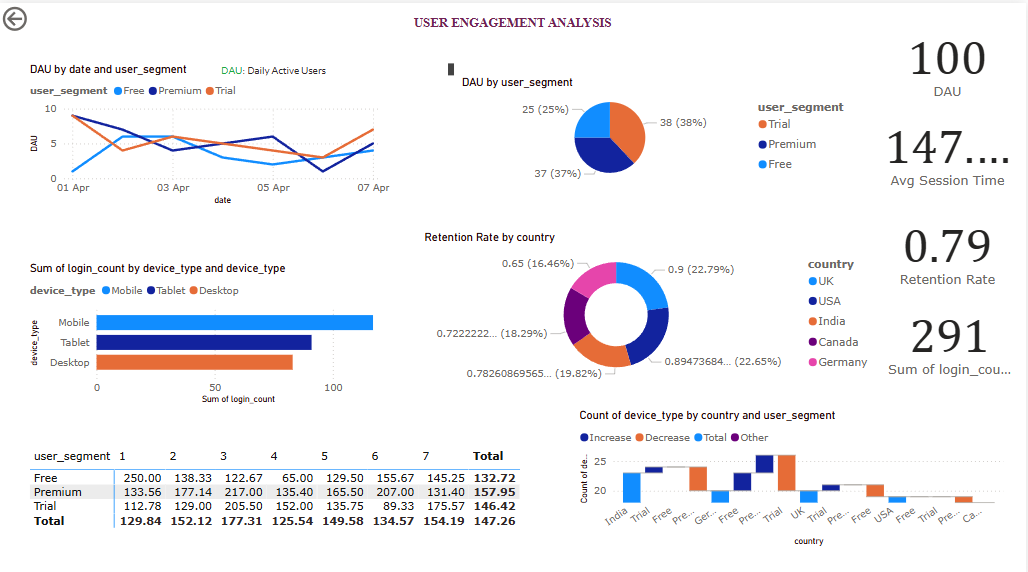

This screenshot's page, from the dashboard's own definition file:
{"tool":"powerbi","page":{"name":"Page 1","canvas":[1280,720],"ordinal":0},"visuals":[{"type":"lineChart","fields":{"Category":["users.date"],"Y":["users.DAU"],"Series":["users.user_segment"]},"box":[33.3,73.3,458.3,183.3],"z":2002},{"type":"pieChart","fields":{"Category":["users.user_segment"],"Y":["users.DAU"]},"box":[571.7,90,496.7,138.3],"z":2003},{"type":"textbox","box":[501.7,10,276.7,60],"z":2004},{"type":"card","fields":{"Values":["users.Avg Session Time"]},"box":[1068.3,125,198.3,116.7],"z":2005},{"type":"card","fields":{"Values":["users.DAU"]},"box":[1096.7,13.3,170,118.3],"z":2006},{"type":"card","fields":{"Values":["users.Retention Rate"]},"box":[1106.7,241.7,150,128.3],"z":2007},{"type":"barChart","fields":{"Category":["users.device_type"],"Y":["Sum(users.login_count)"],"Series":["users.device_type"]},"box":[33.3,321.7,458.3,183.3],"z":2008},{"type":"pivotTable","fields":{"Values":["users.Avg Session Time"],"Columns":["users.date.Variation.Date Hierarchy.Day"],"Rows":["users.user_segment"]},"box":[33.3,550,628.3,170],"z":2009},{"type":"actionButton","box":[0,0,100,40],"z":2011},{"type":"waterfallChart","fields":{"Category":["users.country"],"Breakdown":["users.user_segment"],"Y":["CountNonNull(users.device_type)"]},"box":[718.3,505,538.3,176.7],"z":2012},{"type":"donutChart","fields":{"Y":["users.Retention Rate"],"Category":["users.country"]},"box":[525,283.3,571.7,193.3],"z":2013},{"type":"card","fields":{"Values":["Sum(users.login_count)"]},"box":[1101.7,360,165,116.7],"z":2014},{"type":"textbox","box":[271.7,70,300,25],"z":2015}]}

Visuals, with their boxes in screenshot pixels (x1, y1, x2, y2), scaled from the page's 1280x720 canvas onto the 1028x572 screenshot:
lineChart - users.date x users.DAU: bbox=(27, 58, 395, 204)
pieChart - users.user_segment x users.DAU: bbox=(459, 72, 858, 181)
textbox: bbox=(403, 8, 625, 56)
card - users.Avg Session Time: bbox=(858, 99, 1017, 192)
card - users.DAU: bbox=(881, 11, 1017, 105)
card - users.Retention Rate: bbox=(889, 192, 1009, 294)
barChart - users.device_type x Sum(users.login_count): bbox=(27, 256, 395, 401)
pivotTable - users.Avg Session Time x users.date.Variation.Date Hierarchy.Day: bbox=(27, 437, 531, 571)
actionButton: bbox=(0, 0, 80, 32)
waterfallChart - users.country x users.user_segment: bbox=(577, 401, 1009, 542)
donutChart - users.Retention Rate x users.country: bbox=(422, 225, 881, 379)
card - Sum(users.login_count): bbox=(885, 286, 1017, 379)
textbox: bbox=(218, 56, 459, 75)
